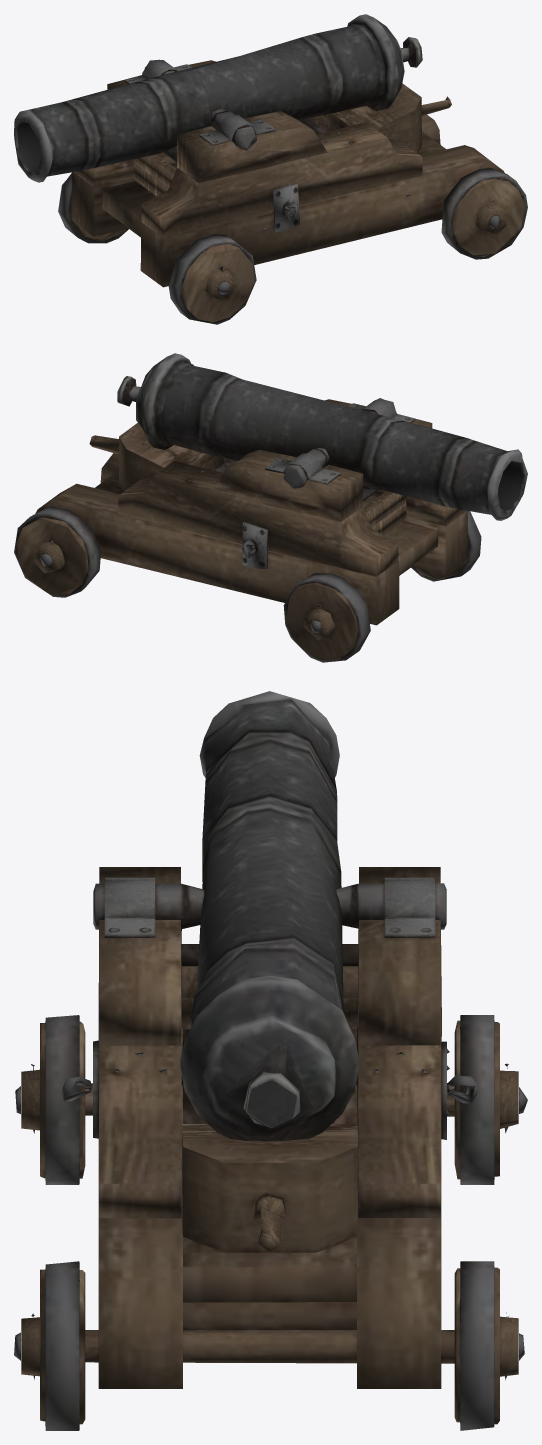
Rendered from cannon-b.lod0.glb.
3 views of the same model, one above another, from view 1: azimuth 30°, elevation 25°; view 2: azimuth 150°, elevation 25°; view 3: azimuth 270°, elevation 25° (orthographic). The views are drawn at different scales.
Visible parts, largest first — view 1: Cylinder.006_Material_0; view 2: Cylinder.006_Material_0; view 3: Cylinder.006_Material_0.
Part boxes in pixels (x1,y1,x2,y2): Cylinder.006_Material_0: [14, 14, 527, 324]; Cylinder.006_Material_0: [14, 353, 527, 662]; Cylinder.006_Material_0: [14, 691, 527, 1430].
Bounding box in the file's own units: 2.6 × 1.19 × 1.41.
1 material, 1 textured.
